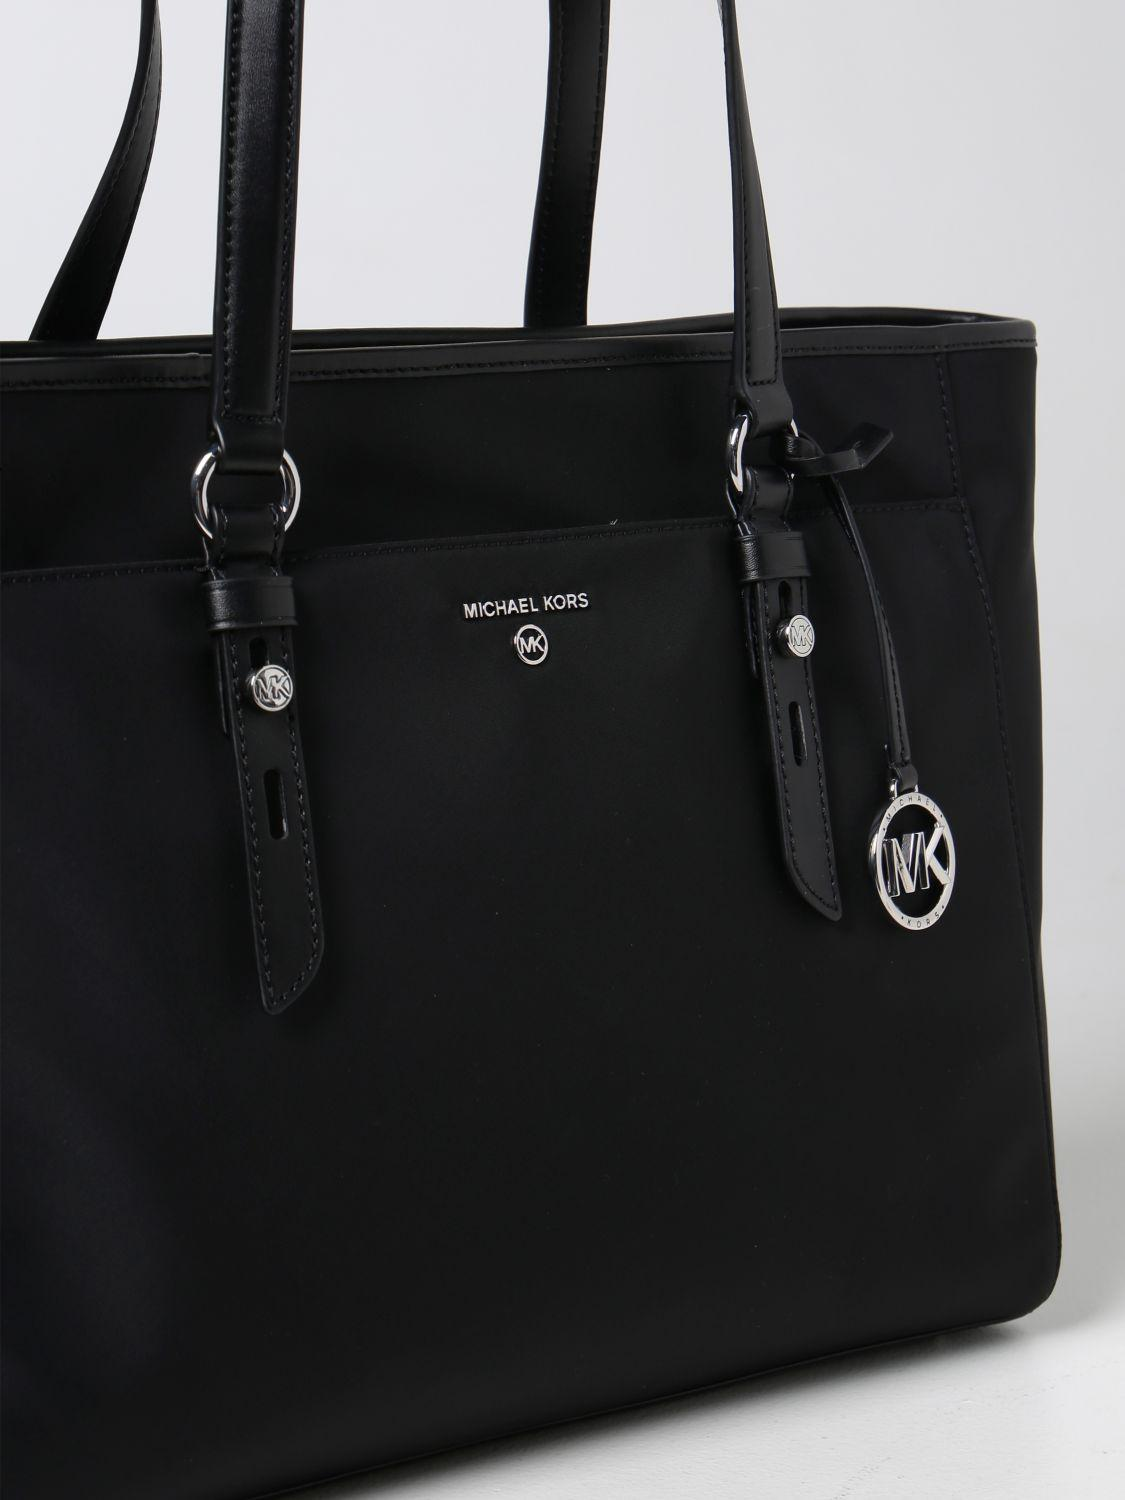MICHAEL-KORS: (462, 592, 588, 619)
